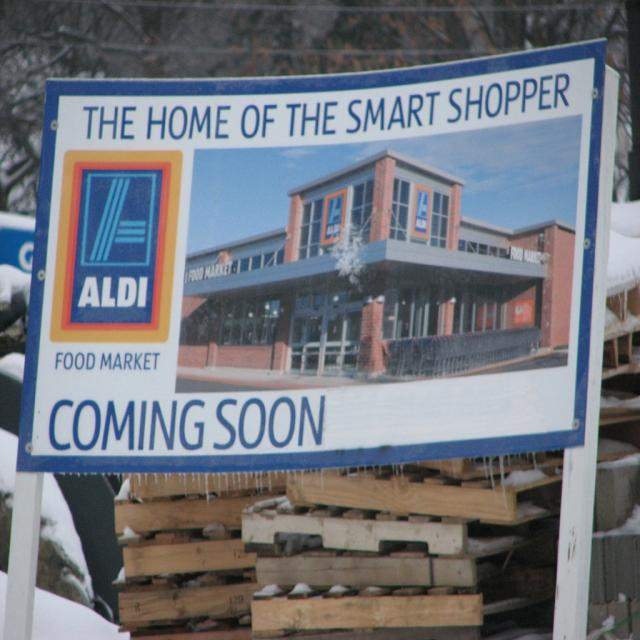aldi: (53, 150, 183, 344), (323, 190, 349, 249), (411, 186, 433, 244)
